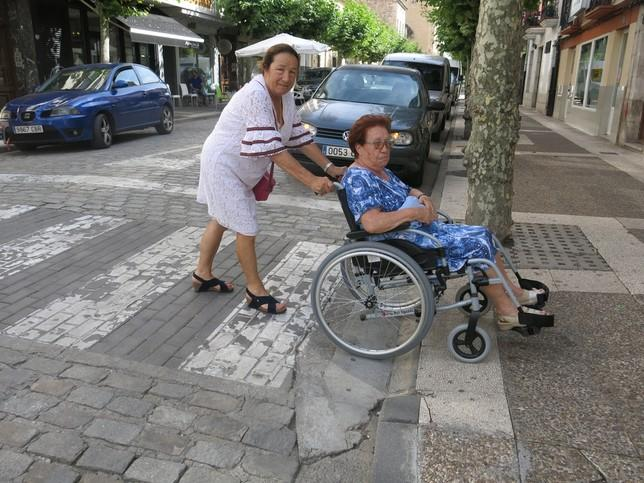push_wheelchair: (192, 43, 349, 314)
wheelchair: (310, 114, 556, 363)
